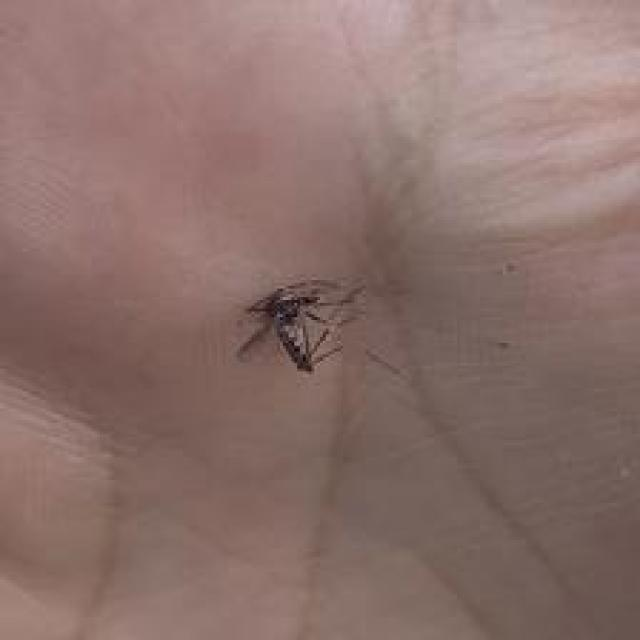Aedes albopictus: (234, 276, 369, 376)
